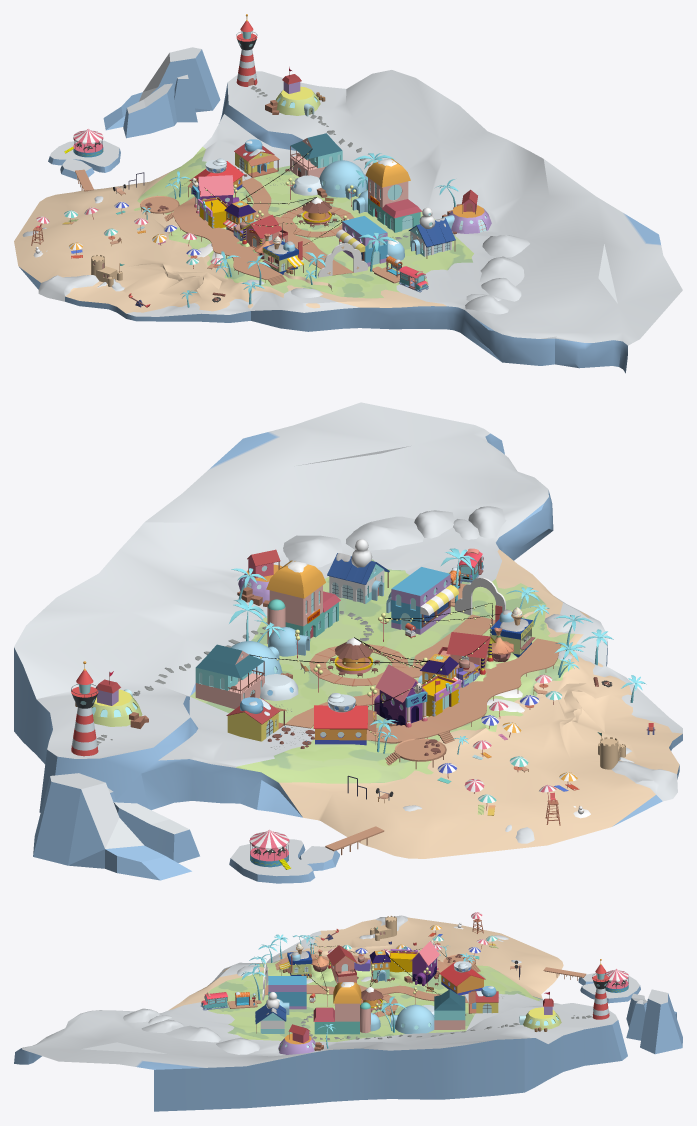
The model's file is Individual_BowlCutBeach_03.fbx.
3 renders of one model, top to bottom at view 1: azimuth 30°, elevation 25°; view 2: azimuth 150°, elevation 25°; view 3: azimuth 270°, elevation 25°, orthographic. The views are drawn at different scales.
Parts seen in each view (by area): view 1: pasted__pasted__Berg, pCube337, polySurface197, polySurface154, polySurface123, polySurface158, polySurface98, polySurface51, pSphere7, pSphere3, polySurface109_f_0_, polySurface95 (+19 smaller); view 2: pasted__pasted__Berg, pCube337, polySurface154, polySurface197, polySurface98, polySurface51, polySurface123, Bar, polySurface184, polySurface158, pCube300, polySurface95 (+19 smaller); view 3: pasted__pasted__Berg, pCube337, polySurface197, polySurface98, Bar, polySurface51, polySurface123, pSphere3, pSphere7, BlingBling, polySurface109_f_0_, polySurface158 (+16 smaller).
Part boxes in pixels (x1,y1,x2,y2): pasted__pasted__Berg: (14,70,682,373); pCube337: (48,47,220,179); polySurface197: (365,158,421,232); polySurface154: (173,197,286,285); polySurface123: (142,153,458,307); polySurface158: (242,177,353,275); polySurface98: (290,133,342,177); polySurface51: (336,216,387,266); pSphere7: (275,67,320,116); pSphere3: (319,160,366,197); polySurface109_f_0_: (448,189,491,233); polySurface95: (234,139,279,177); pasted__pasted__Berg: (14,402,682,858); pCube337: (33,773,339,883); polySurface154: (366,638,561,743); polySurface197: (266,560,340,643); polySurface98: (195,644,264,709); polySurface51: (391,567,458,634); polySurface123: (229,548,645,754); Bar: (313,693,376,745); polySurface184: (375,664,427,727); polySurface158: (285,614,495,728); pCube300: (327,553,389,603); polySurface95: (226,697,286,741); pasted__pasted__Berg: (14,915,627,1111); pCube337: (578,973,682,1054); polySurface197: (313,982,370,1034); polySurface98: (434,989,465,1029); Bar: (438,961,485,995); polySurface51: (268,976,306,1009); polySurface123: (241,934,476,1048); pSphere3: (395,1004,434,1033); pSphere7: (519,992,561,1030); BlingBling: (327,945,356,983); polySurface109_f_0_: (278,1024,315,1054); polySurface158: (265,984,468,1002).
Bounding box in the file's own units: 9305 × 2108 × 13567.
